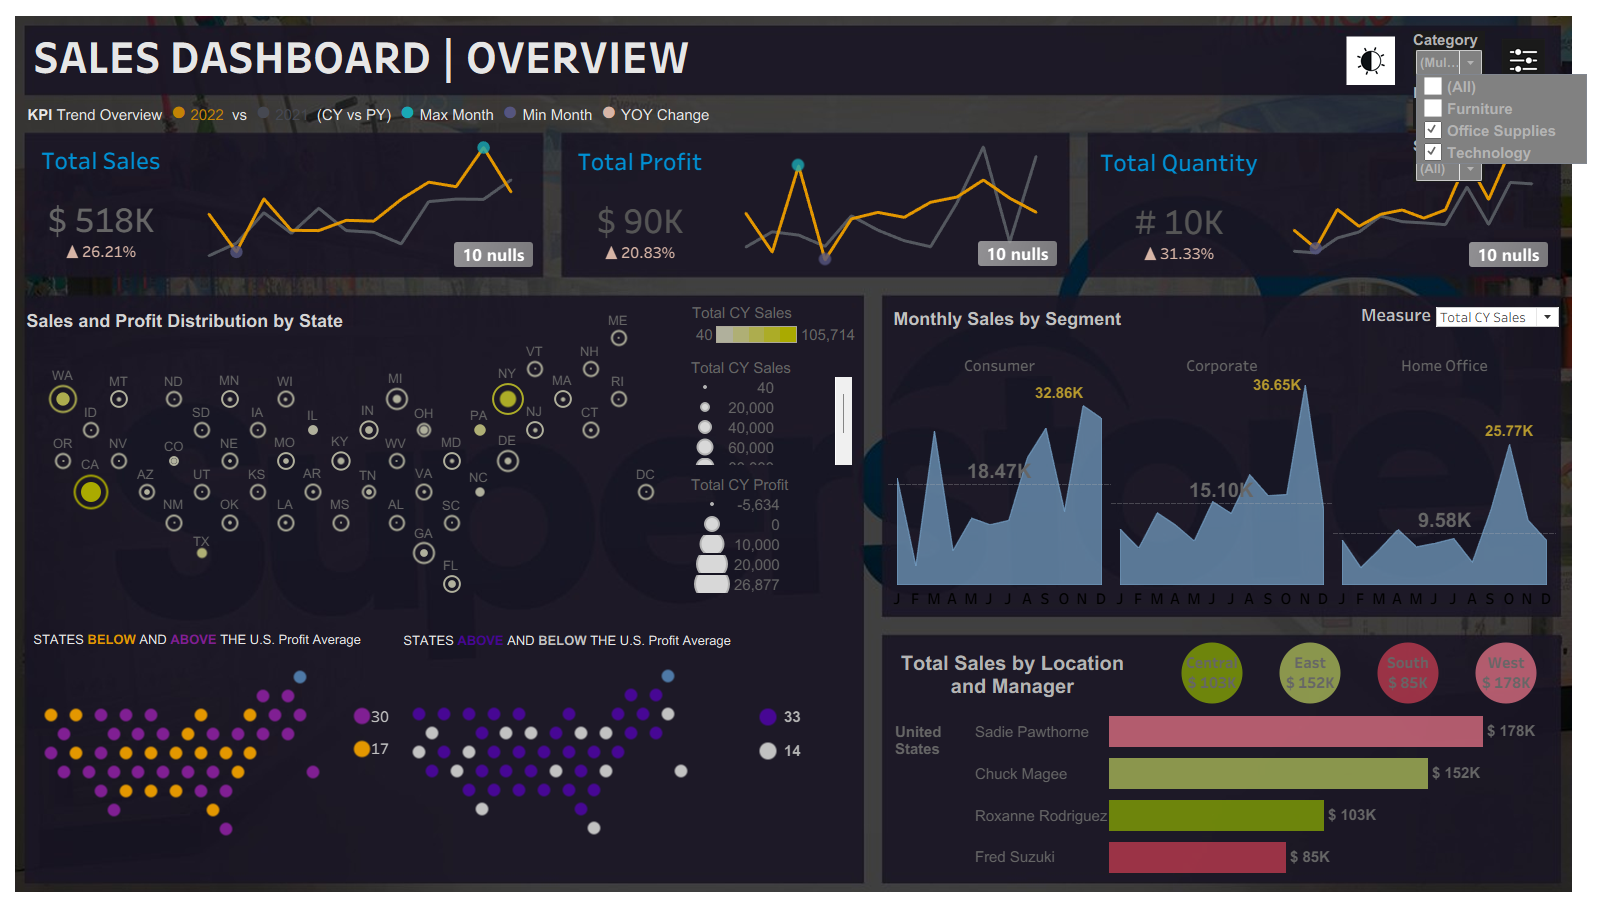

This screenshot's page, from the dashboard's own definition file:
{"tool":"tableau","page":{"name":"Sales Dashboard","canvas":[1600,900],"ordinal":0},"visuals":[{"type":"image","param":"C:/Users/123ra/OneDrive/Desktop/Sales Dashboard Background/Slide4.JPG","box":[8,8,1584,884]},{"type":"text","box":[36,16,759,70]},{"type":"filter","title":"Sales and Profit by State ","param":"[federated.1atlnmu0addl1l1gwix4g1qseh0k].[none:Category:nk]","box":[1399,23,96,57]},{"type":"dashboard-object","box":[1344,32,56,49]},{"type":"dashboard-object","box":[1501,34,56,44]},{"type":"filter","title":"Sales and Profit by State ","param":"[federated.1atlnmu0addl1l1gwix4g1qseh0k].[none:Region:nk]","box":[1399,80,96,57]},{"type":"text","box":[30,92,688,35]},{"type":"worksheet","title":"Sales KPI","mark":"Automatic","box":[31,128,152,144]},{"type":"worksheet","title":"Sales Sparkline","mark":"Automatic","rows":["Calculation_0402745724579840"],"cols":["Order Date"],"box":[183,128,365,144]},{"type":"worksheet","title":"Profit KPI ","mark":"Automatic","box":[570,131,151,140]},{"type":"worksheet","title":"Profit Sparkline","mark":"Automatic","rows":["min max sales (copy)_0402745730015233"],"cols":["Order Date"],"box":[721,131,351,140]},{"type":"worksheet","title":"Quantity KPI ","mark":"Automatic","box":[1096,131,178,141]},{"type":"worksheet","title":"Quantity Sparkline","mark":"Automatic","rows":["min max sales (copy)_0402745733791746"],"cols":["Order Date"],"box":[1274,131,289,141]},{"type":"filter","title":"Sales and Profit by State ","param":"[federated.1atlnmu0addl1l1gwix4g1qseh0k].[none:Ship Mode:nk]","box":[1399,137,96,57]},{"type":"legend","title":"Sales and Profit by State ","param":"[federated.1atlnmu0addl1l1gwix4g1qseh0k].[sum:Calculation_0149308047835136:qk]","box":[698,300,168,48]},{"type":"text","box":[896,300,257,30]},{"type":"parameter","param":"[Parameters].[Parameter 0402746558570507]","box":[1367,300,201,30]},{"type":"text","box":[29,302,336,30]},{"type":"worksheet","title":"Sales and Profit by State ","mark":"Circle","rows":["Row"],"cols":["Column","Column"],"box":[27,303,662,308]},{"type":"worksheet","title":"Month Sales By Segment","mark":"Area","rows":["Calculation_0402746559078412"],"cols":["Segment","Order Date"],"box":[894,351,668,255]},{"type":"legend","title":"Sales and Profit by State ","param":"[federated.1atlnmu0addl1l1gwix4g1qseh0k].[sum:Calculation_0149308047835136:qk]","box":[697,355,163,106]},{"type":"legend","title":"Sales and Profit by State ","param":"[federated.1atlnmu0addl1l1gwix4g1qseh0k].[sum:Total CY Sales (copy)_014930805576","box":[697,472,140,127]},{"type":"text","box":[406,622,343,30]},{"type":"text","box":[36,625,348,21]},{"type":"worksheet","title":"Region wise Sales","mark":"Circle","cols":["Region"],"box":[1169,634,392,69]},{"type":"text","box":[901,637,235,67]},{"type":"worksheet","title":"Avg Profit by State","mark":"Circle","rows":["Row"],"cols":["Column"],"box":[406,653,300,190]},{"type":"worksheet","title":"Avg Sales by State","mark":"Circle","rows":["Row"],"cols":["Column"],"box":[38,654,300,190]},{"type":"worksheet","title":"Avg Sales by State Count","mark":"Circle","rows":["Calculation_0402746541285383"],"box":[338,696,60,65]},{"type":"worksheet","title":"Avg Profit by State Count","mark":"Circle","rows":["Sales Avg Color (copy)_0402746544267274"],"box":[738,696,72,68]},{"type":"worksheet","title":"Total Sales By Local and Manager","mark":"Automatic","rows":["Country/Region","Regional Manager"],"cols":["Calculation_0149308047835136"],"box":[895,707,670,167]}]}

Visuals, with their boxes in screenshot pixels (x1, y1, x2, y2), scaled from the page's 1600x900 canvas onto the 1606x912 screenshot:
image: l=8, t=8, r=1598, b=904
text: l=36, t=16, r=798, b=87
"Sales and Profit by State " filter: l=1404, t=23, r=1501, b=81
dashboard-object: l=1349, t=32, r=1405, b=82
dashboard-object: l=1507, t=34, r=1563, b=79
"Sales and Profit by State " filter: l=1404, t=81, r=1501, b=139
text: l=30, t=93, r=721, b=129
"Sales KPI" worksheet: l=31, t=130, r=184, b=276
"Sales Sparkline" worksheet: l=184, t=130, r=550, b=276
"Profit KPI " worksheet: l=572, t=133, r=724, b=275
"Profit Sparkline" worksheet: l=724, t=133, r=1076, b=275
"Quantity KPI " worksheet: l=1100, t=133, r=1279, b=276
"Quantity Sparkline" worksheet: l=1279, t=133, r=1569, b=276
"Sales and Profit by State " filter: l=1404, t=139, r=1501, b=197
"Sales and Profit by State " legend: l=701, t=304, r=869, b=353
text: l=899, t=304, r=1157, b=334
parameter: l=1372, t=304, r=1574, b=334
text: l=29, t=306, r=366, b=336
"Sales and Profit by State " worksheet (Circle marks): l=27, t=307, r=692, b=619
"Month Sales By Segment" worksheet (Area marks): l=897, t=356, r=1568, b=614
"Sales and Profit by State " legend: l=700, t=360, r=863, b=467
"Sales and Profit by State " legend: l=700, t=478, r=840, b=607
text: l=408, t=630, r=752, b=661
text: l=36, t=633, r=385, b=655
"Region wise Sales" worksheet (Circle marks): l=1173, t=642, r=1567, b=712
text: l=904, t=645, r=1140, b=713
"Avg Profit by State" worksheet (Circle marks): l=408, t=662, r=709, b=854
"Avg Sales by State" worksheet (Circle marks): l=38, t=663, r=339, b=855
"Avg Sales by State Count" worksheet (Circle marks): l=339, t=705, r=399, b=771
"Avg Profit by State Count" worksheet (Circle marks): l=741, t=705, r=813, b=774
"Total Sales By Local and Manager" worksheet: l=898, t=716, r=1571, b=886
